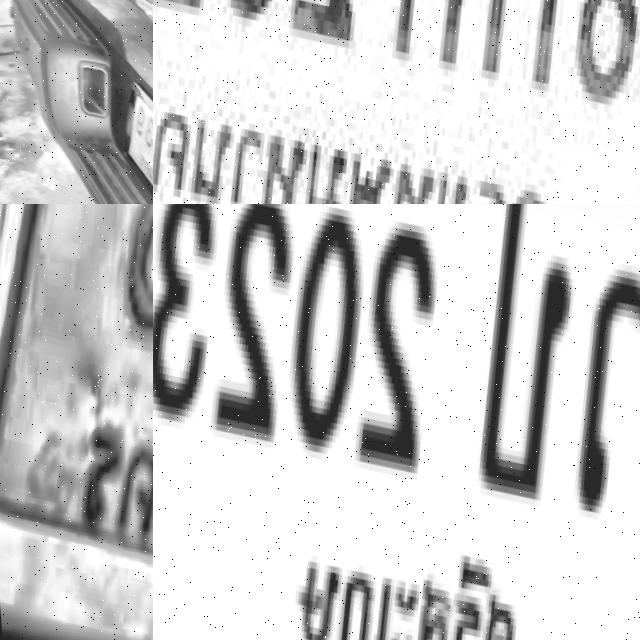license-plate: (153, 204, 640, 640), (153, 0, 640, 204), (0, 204, 153, 640), (88, 73, 153, 204)
